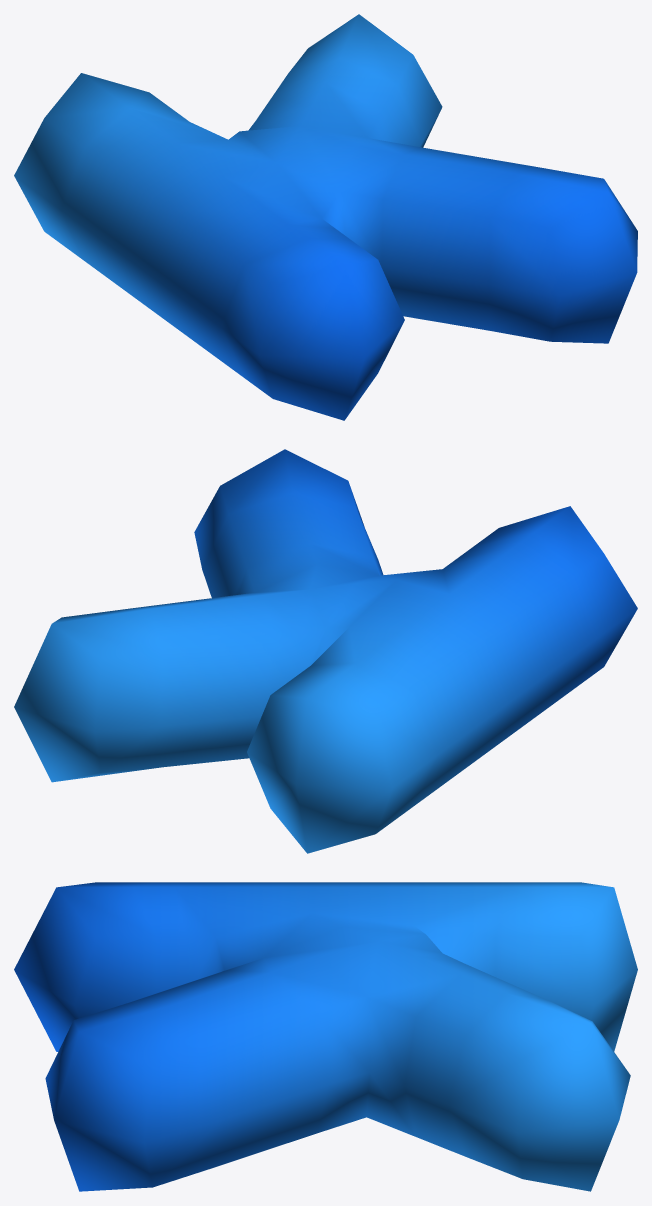
The model's file is CartoonFont_K.FBX.
The picture shows the model from 3 angles, top to bottom: view 1: azimuth 30°, elevation 25°; view 2: azimuth 150°, elevation 25°; view 3: azimuth 270°, elevation 25°; orthographic projection. The views are drawn at different scales.
Visible parts, largest first — view 1: K; view 2: K; view 3: K.
Part boxes in pixels (left/top/right/bottom): K: left=14, top=14, right=637, bottom=420; K: left=14, top=449, right=637, bottom=853; K: left=14, top=882, right=637, bottom=1191.
Size of the model in its own units: 25 by 9.22 by 31.01.
1 material, 1 textured.
